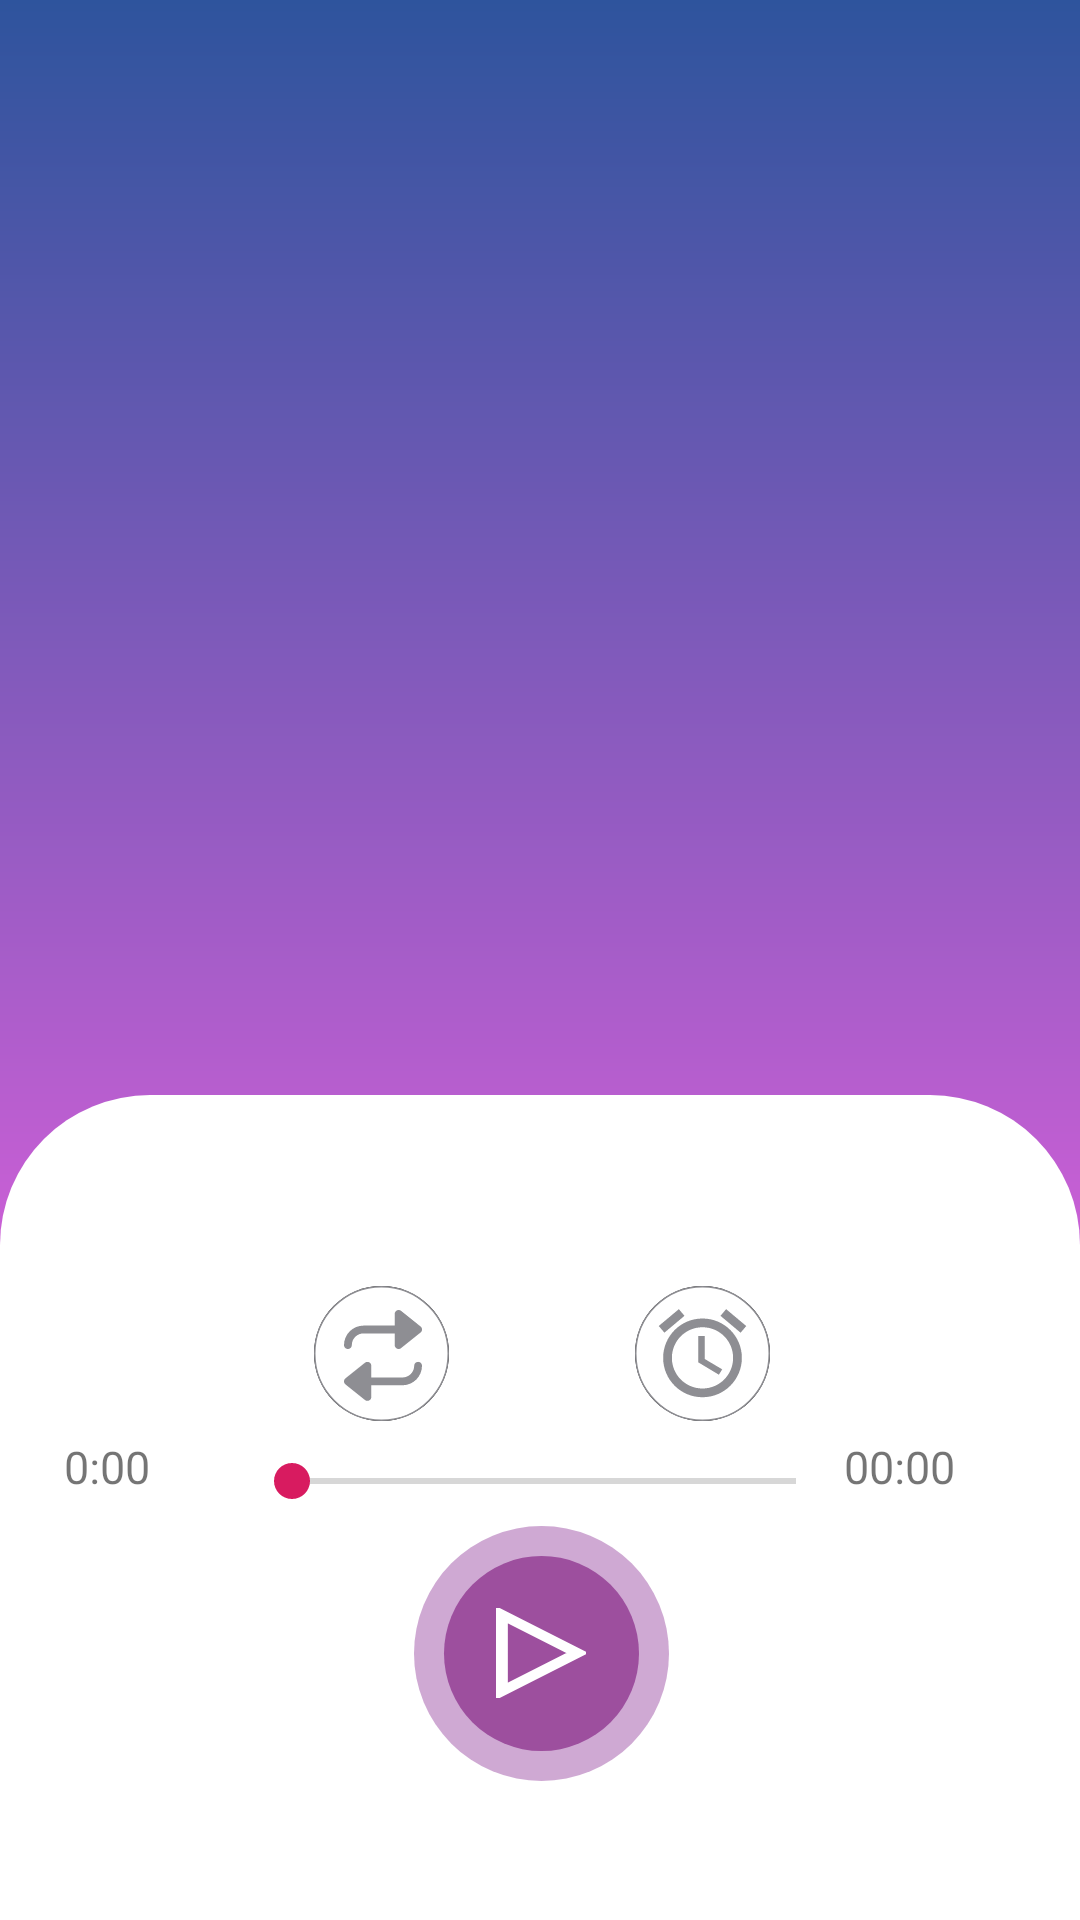

Named icons in this screenshot (1080x1920) and their bounding boxes, (x1, y1, x2, y2):
checkbox loop: (314, 1286, 449, 1421)
checkbox timer: (635, 1286, 770, 1421)
play pause music: (414, 1526, 669, 1781)
